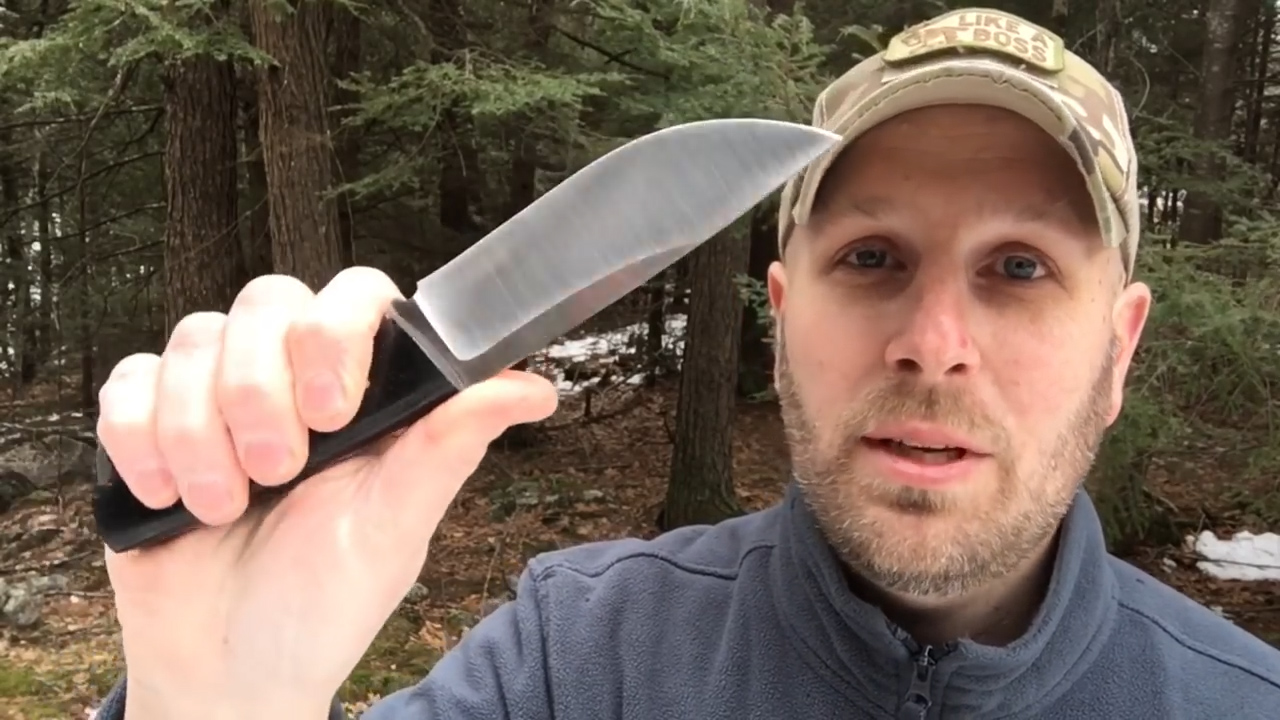knife: (250, 109, 855, 513)
